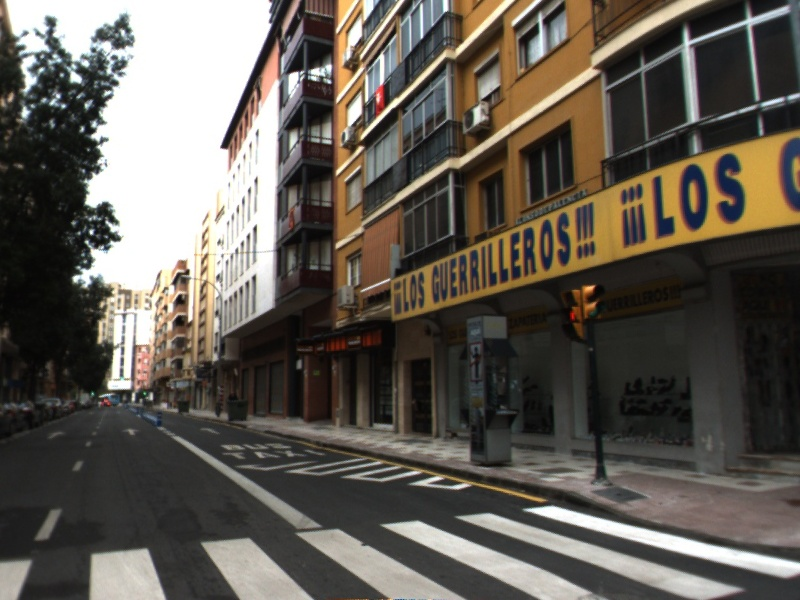STRAIGHT: (43, 429, 69, 442), (197, 425, 223, 437), (119, 426, 143, 437)
